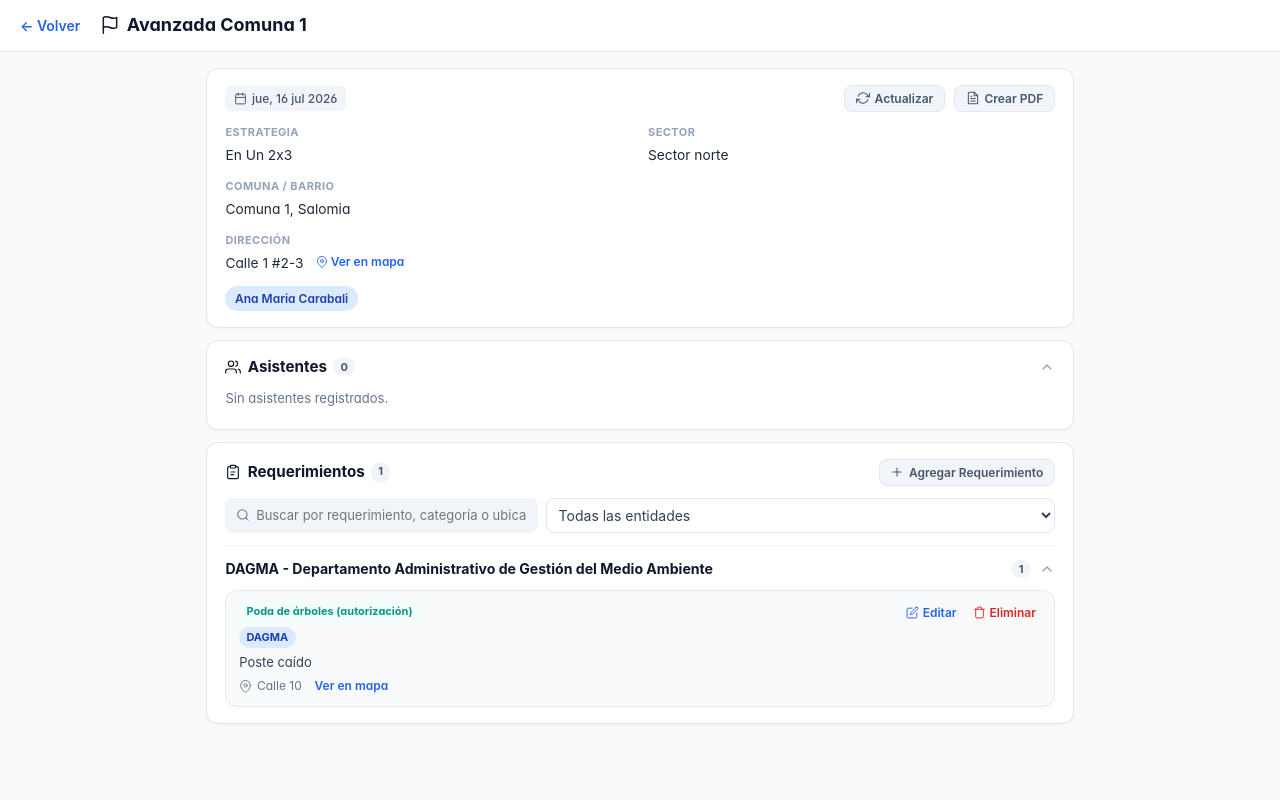
Test: DetalleAvanzada › edit requerimiento › 'Editar' on a req-card opens the modal prefilled with existing values
Click the button with aria-label "editar requerimiento" at (931,612), box x1=901 y1=602 x2=961 y2=622
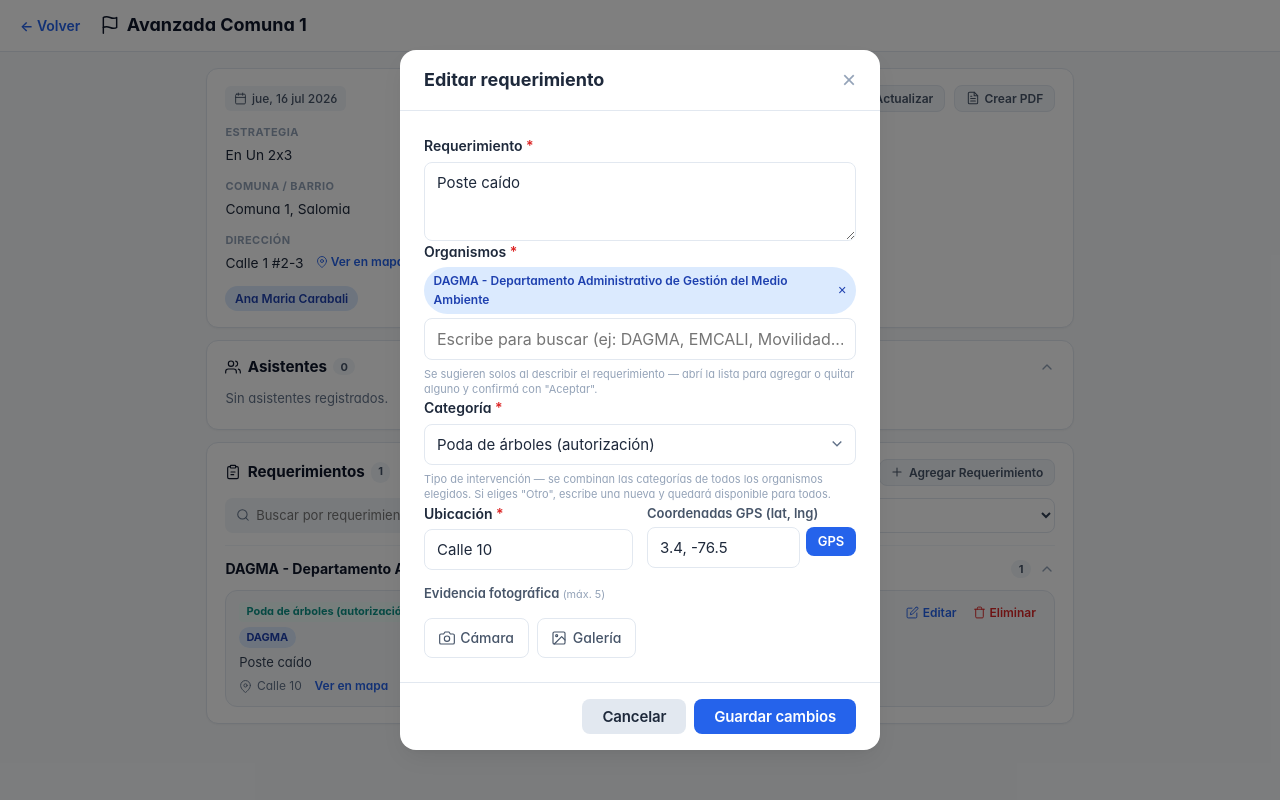
Check: the heading "Editar requerimiento" is shown, box x1=424 y1=66 x2=604 y2=94
Check: the text box labelled "Requerimiento *" holds "Poste caído", box x1=424 y1=162 x2=856 y2=241
Check: the field labelled "Ubicación *" holds "Calle 10", box x1=424 y1=529 x2=633 y2=570
